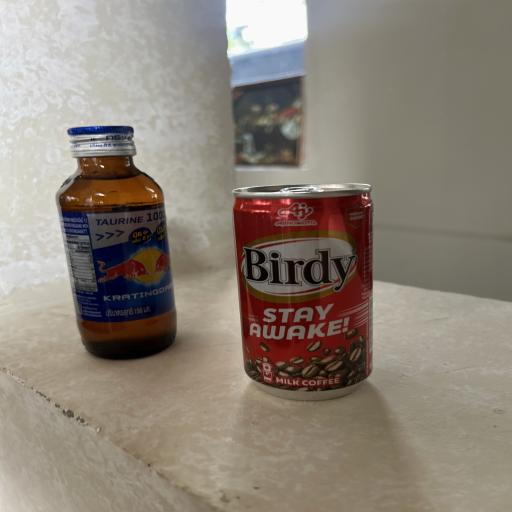birdy: (230, 183, 375, 403)
bo_huc: (55, 125, 183, 364)
